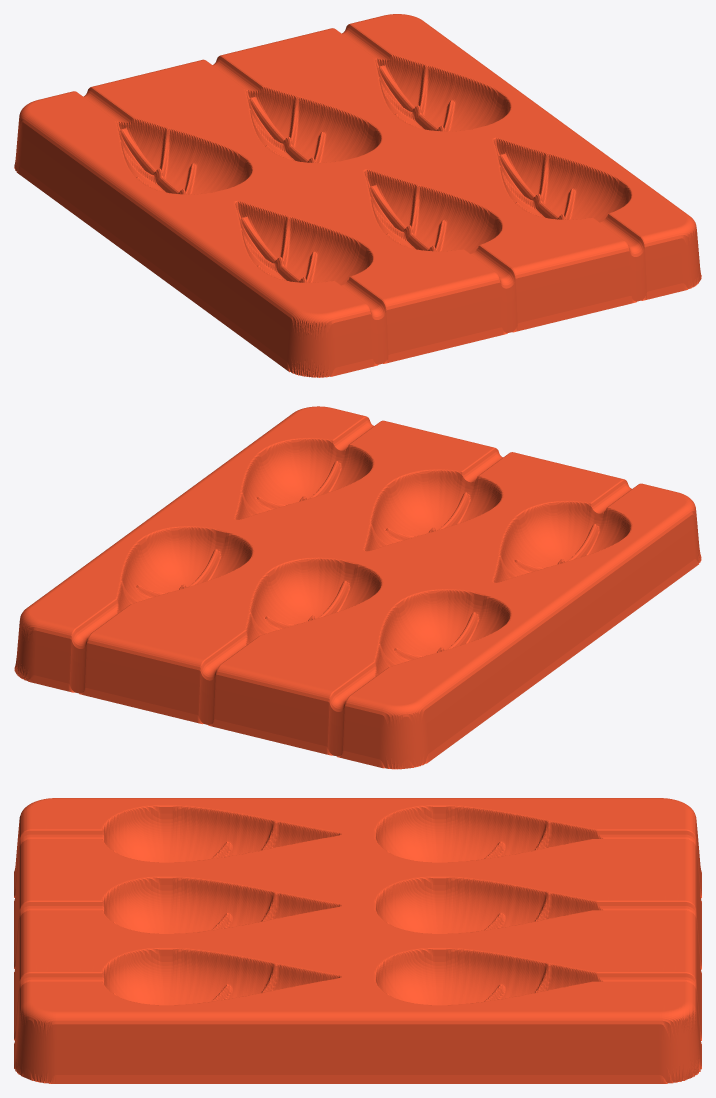
Rendered from mold.glb.
3 views of the same model, one above another, from view 1: azimuth 30°, elevation 25°; view 2: azimuth 150°, elevation 25°; view 3: azimuth 270°, elevation 25° (orthographic). The views are drawn at different scales.
Visible parts, largest first — view 1: geometry_0; view 2: geometry_0; view 3: geometry_0.
Boxes of the visible parts, left/top/right/bottom form: geometry_0: left=14, top=14, right=701, bottom=377; geometry_0: left=14, top=406, right=701, bottom=769; geometry_0: left=14, top=798, right=701, bottom=1083.
Bounding box in the file's own units: 0.1152 × 0.0155 × 0.1477.
